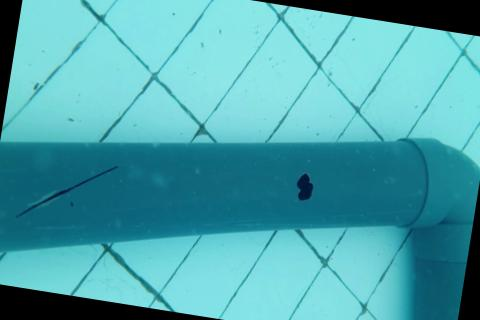kebocoran: (294, 170, 317, 204)
keretakan: (13, 148, 119, 232)
